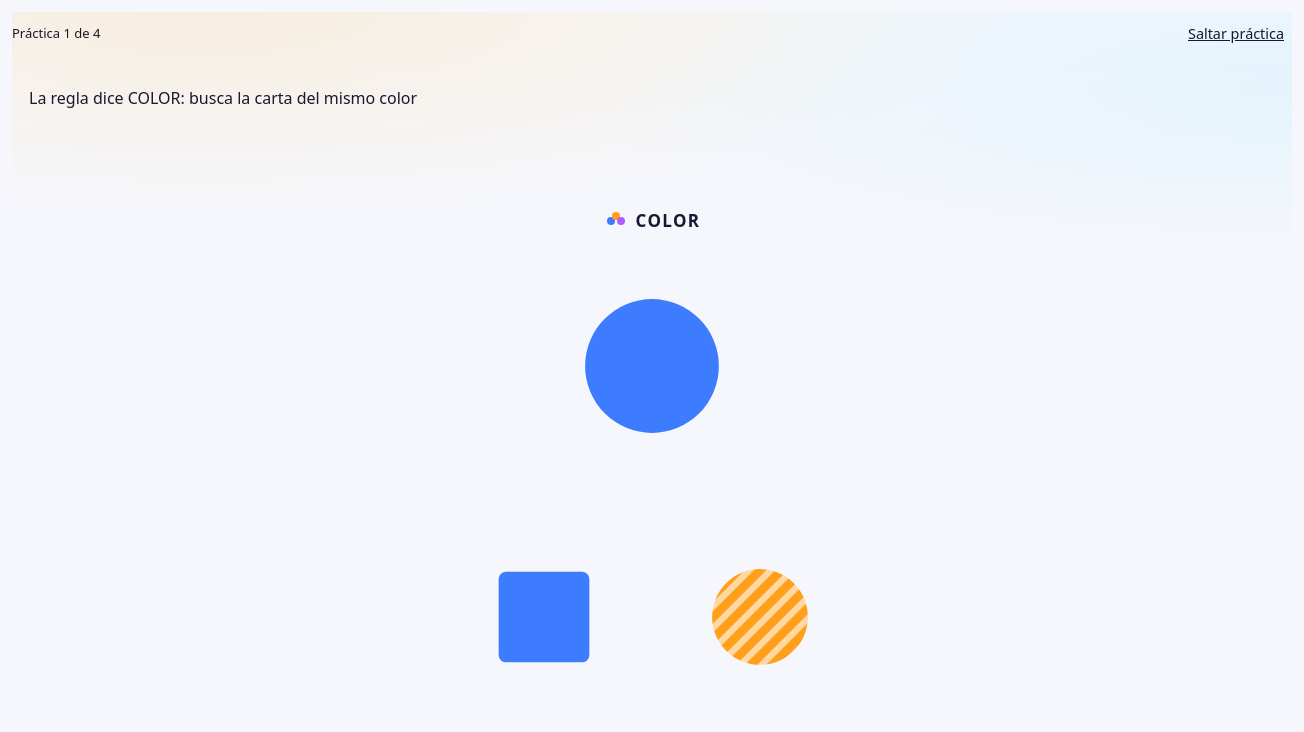
Test: the banner changes to shape from round 3, with the switched class
The image size is (1304, 732).
Click the button with test id "target-left".
click(544, 617)  # box [469,542,619,692]
Wait 700 ms
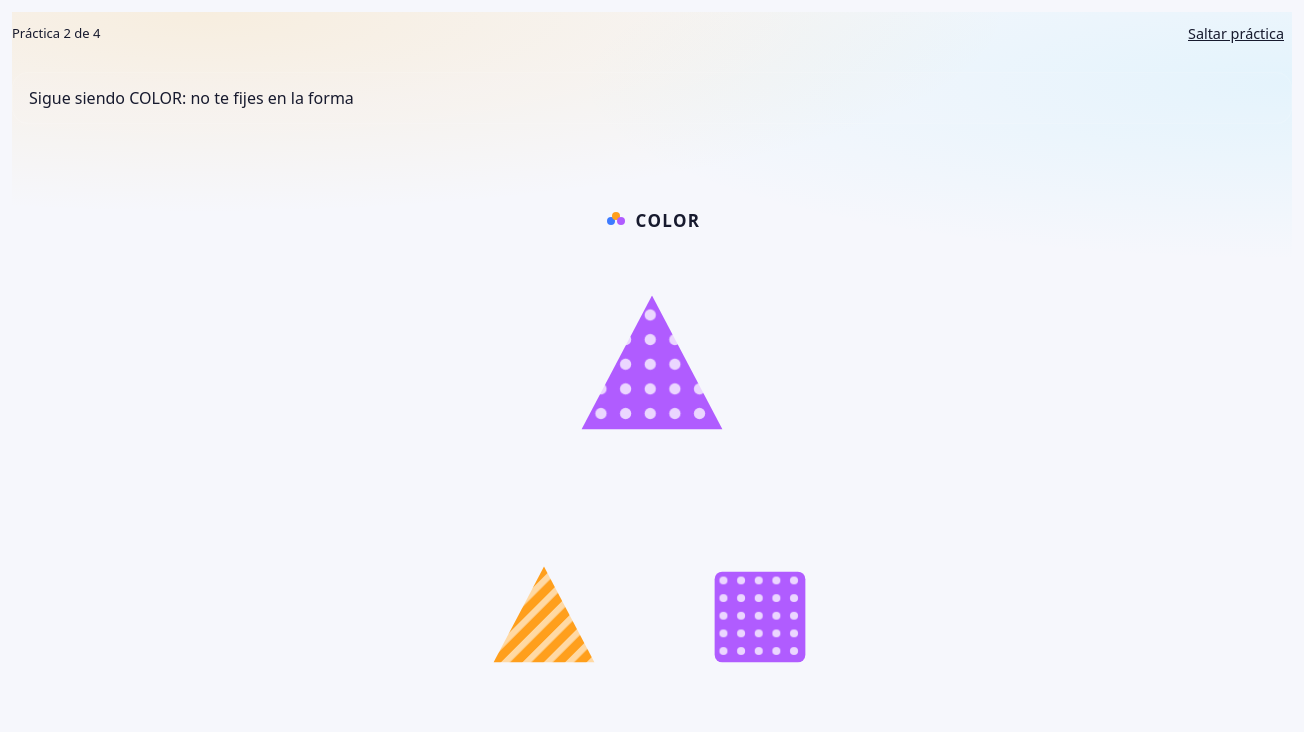
Now the text "Sigue siendo COLOR: no te fijes en la forma" is shown, box [12,72,1292,124]
Click the button with test id "target-right".
click(760, 617)  # box [685,542,835,692]
Wait 700 ms
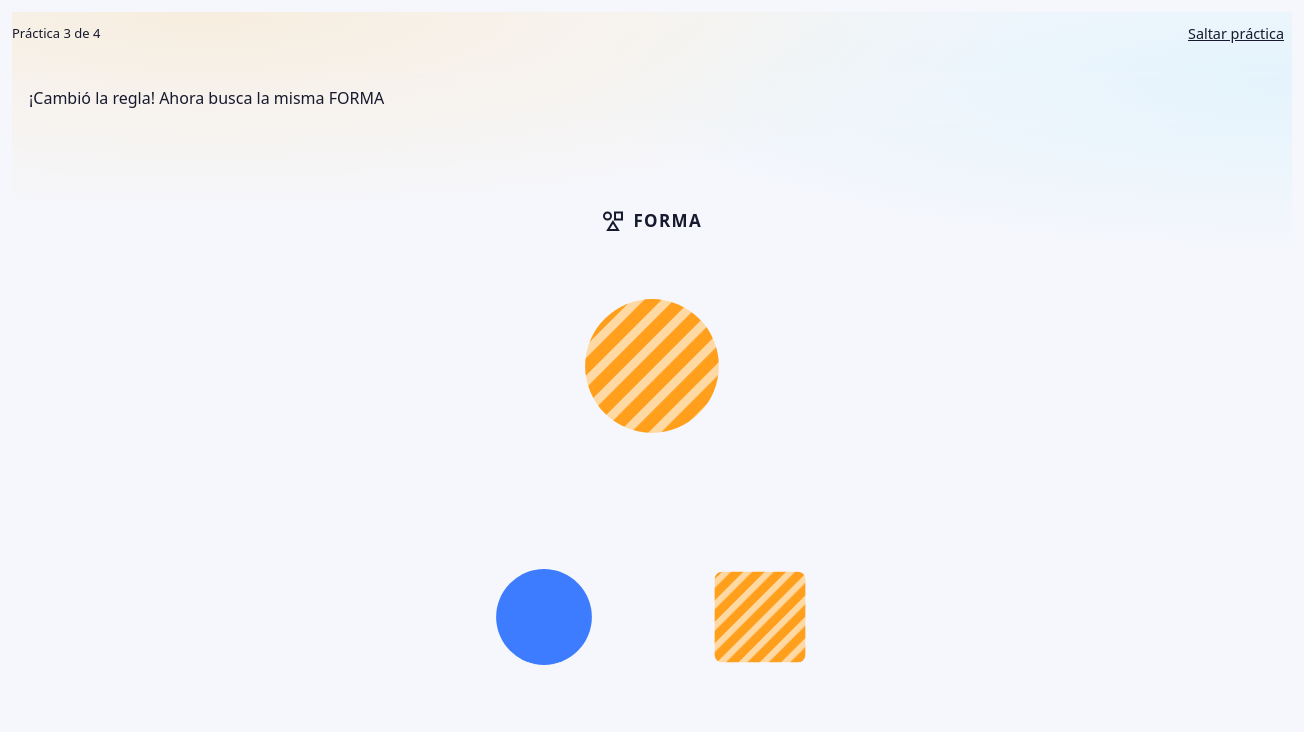
Now the text "¡Cambió la regla! Ahora busca la misma FORMA" is shown, box [12,72,1292,124]
Click the button with test id "target-right".
click(760, 617)  # box [685,542,835,692]
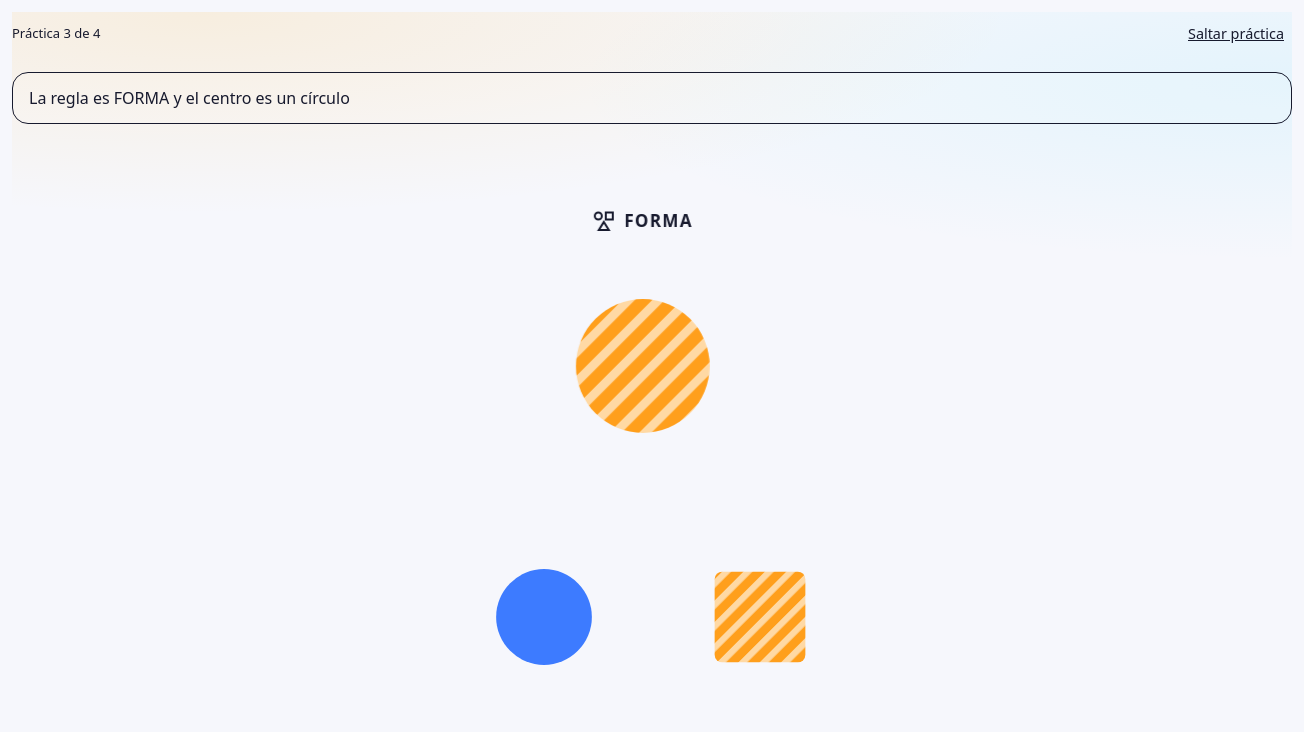
Now the text "La regla es FORMA y el centro es un círculo" is shown, box [12,72,1292,124]
Click the button with test id "target-left".
click(544, 617)  # box [469,542,619,692]
Wait 700 ms
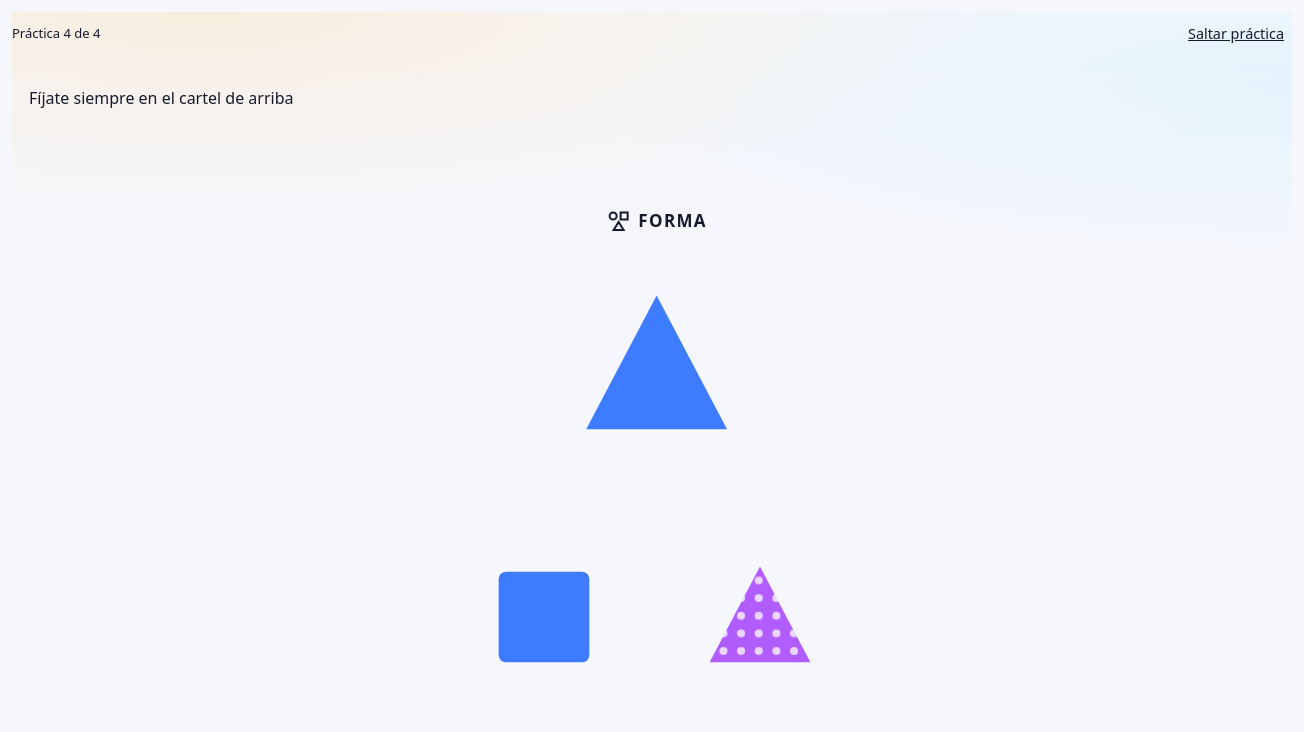
Now the text "Fíjate siempre en el cartel de arriba" is shown, box [12,72,1292,124]
